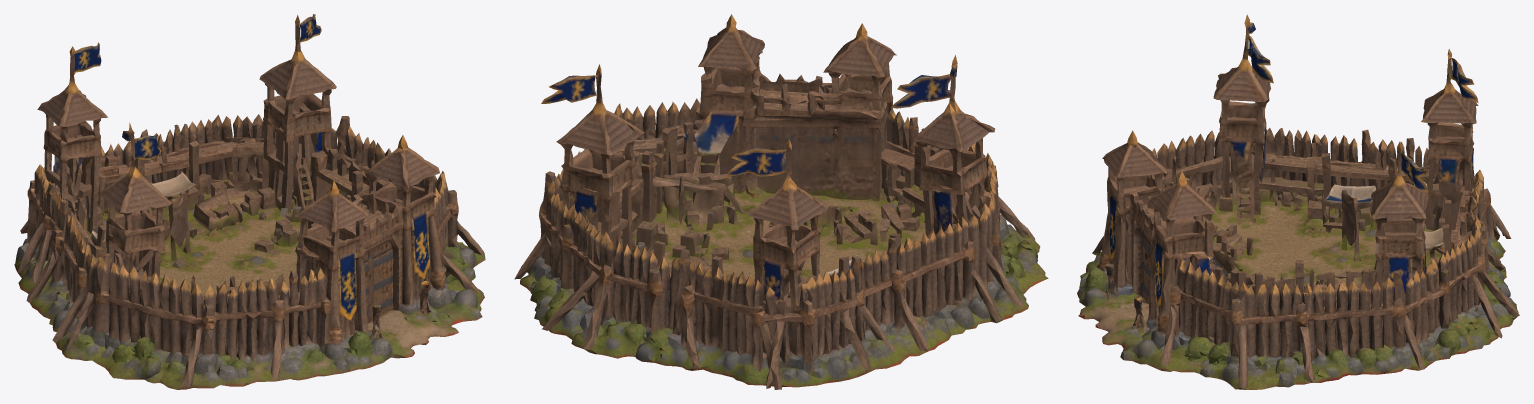
Rendered from fort-palisadeb.glb.
3 renders of one model, left to right at view 1: azimuth 30°, elevation 25°; view 2: azimuth 150°, elevation 25°; view 3: azimuth 270°, elevation 25°, orthographic. The views are drawn at different scales.
Parts seen in each view (by area): view 1: geometry_0; view 2: geometry_0; view 3: geometry_0.
Part boxes in pixels (x1,y1,x2,y2): geometry_0: [14, 14, 485, 389]; geometry_0: [514, 14, 1048, 389]; geometry_0: [1077, 14, 1519, 389].
Size of the model in its own units: 1.9 by 0.95 by 1.81.
1 material, 1 textured.
